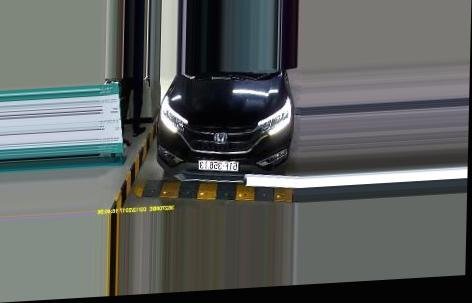License_Plate: (200, 154, 241, 176)
